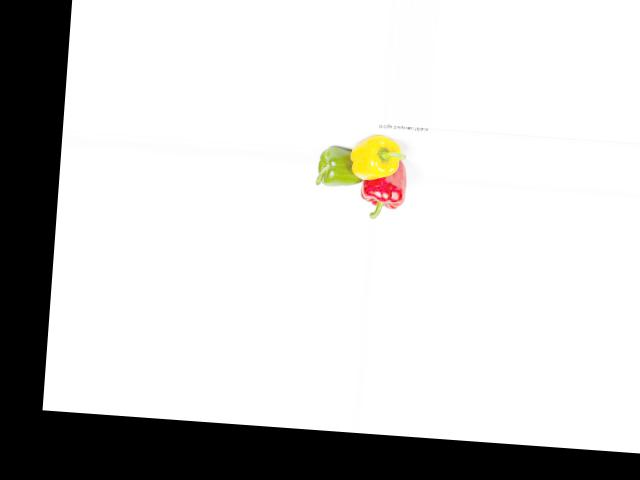bell_pepper: (358, 160, 412, 221)
